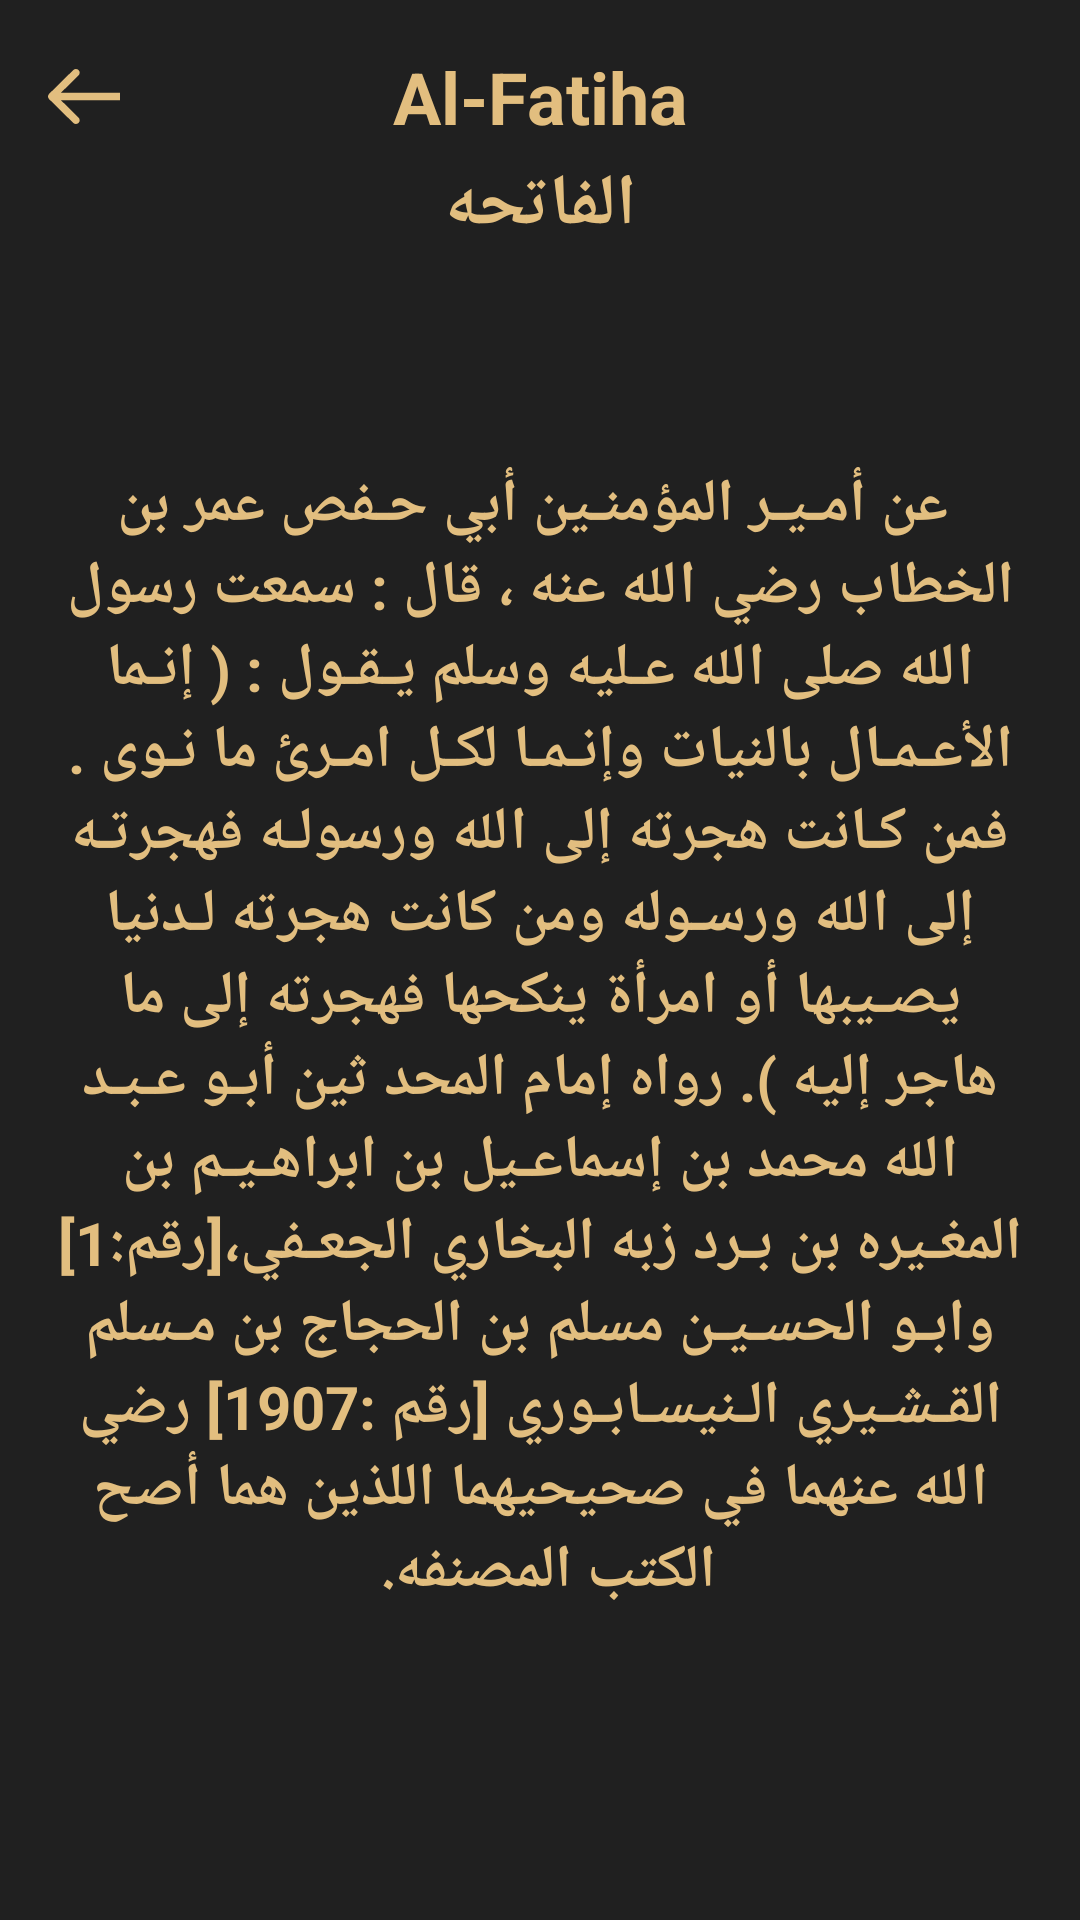

Point at icon controls on the screen. Image size 1080*1920, points as [x,y].
back arrow: [84,96]
